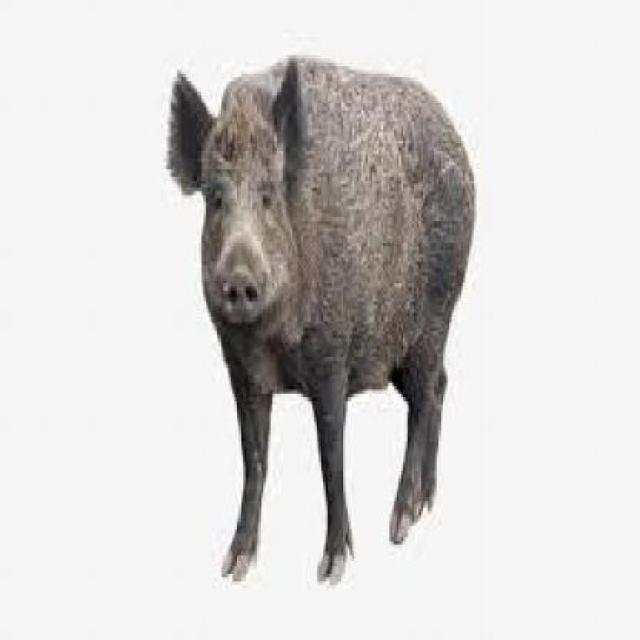wildboar: (163, 48, 477, 592)
